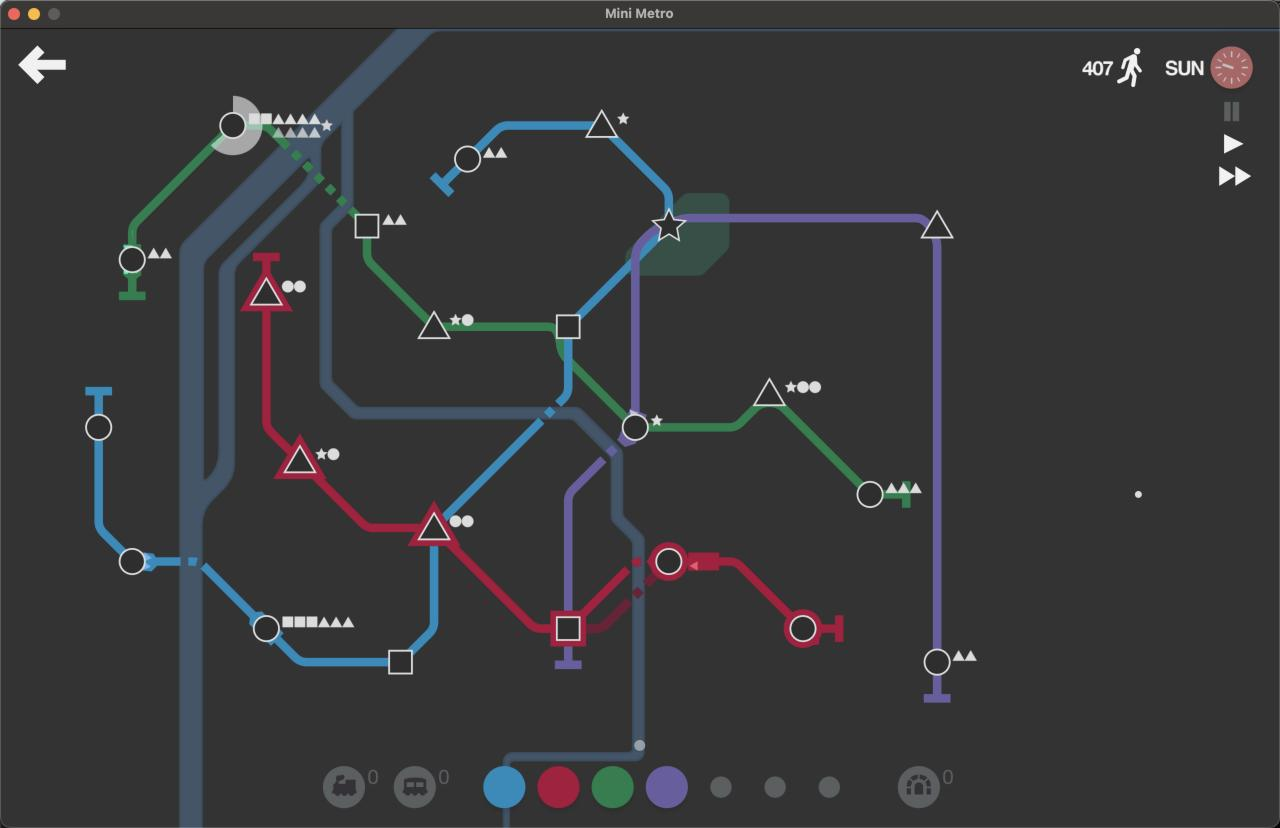CIRCLE: (788, 612, 821, 646), (619, 411, 650, 443), (252, 613, 281, 644), (654, 546, 683, 576), (118, 244, 146, 275), (922, 648, 951, 677), (118, 547, 147, 576), (856, 479, 884, 509), (219, 111, 247, 140), (454, 144, 481, 173), (85, 414, 112, 441)
SQUARE: (551, 612, 584, 645), (555, 313, 582, 340), (353, 213, 380, 239), (387, 648, 413, 675)
STAR: (651, 208, 687, 243)
TRIANGLE: (282, 442, 318, 476), (249, 276, 286, 309), (416, 511, 451, 543), (416, 309, 451, 340), (584, 108, 618, 139), (752, 377, 786, 408), (920, 209, 955, 239)
